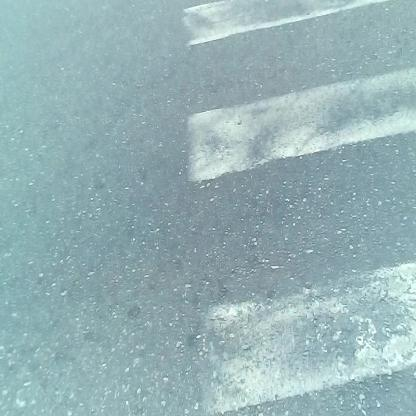crosswalk: (145, 8, 416, 407)
